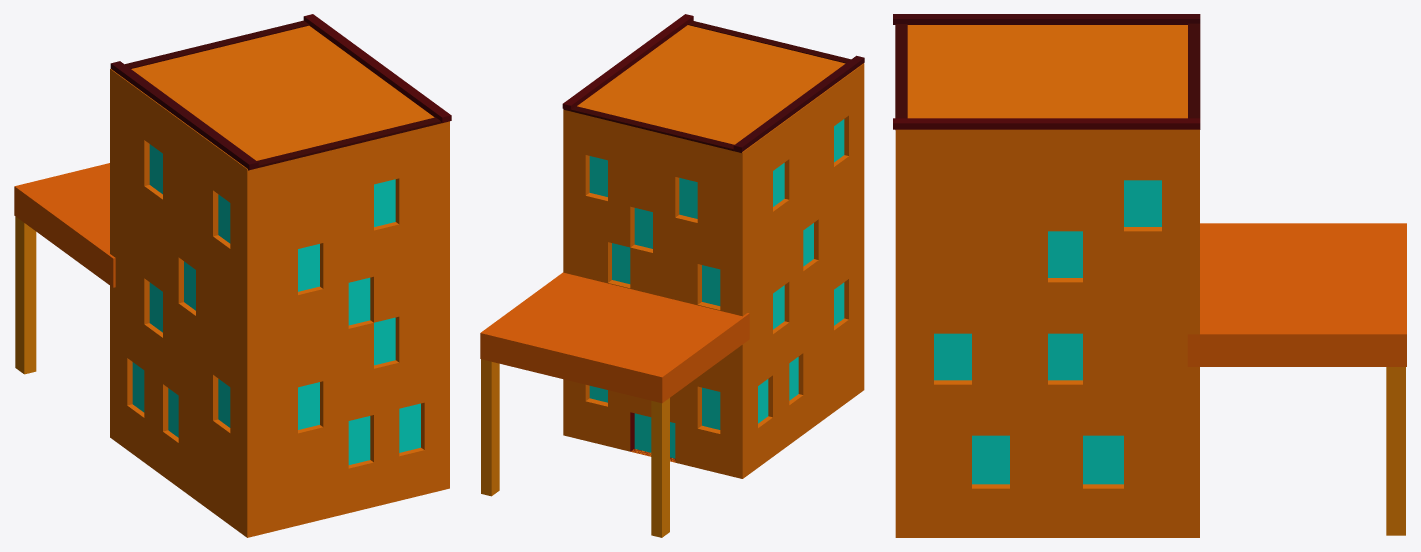
The model's file is building 5 (orange).fbx.
3 views of the same model, side by side, from view 1: azimuth 30°, elevation 25°; view 2: azimuth 150°, elevation 25°; view 3: azimuth 270°, elevation 25° (orthographic). The views are drawn at different scales.
Parts seen in each view (by area): view 1: Cube, Cube.001, Cube.003, Cube.006, Cube.007, Cube.005, Cube.004; view 2: Cube, Cube.001, Cube.003, Cube.002, Cube.006, Cube.007, Cube.004, Cube.005; view 3: Cube, Cube.001, Cube.007, Cube.002, Cube.006, Cube.004, Cube.005.
Part boxes in pixels (bbox=[...]): Cube: bbox=[110, 25, 449, 537]; Cube.001: bbox=[14, 163, 115, 287]; Cube.003: bbox=[15, 216, 36, 374]; Cube.006: bbox=[110, 61, 258, 169]; Cube.007: bbox=[303, 14, 451, 122]; Cube.005: bbox=[243, 117, 447, 170]; Cube.004: bbox=[125, 20, 309, 68]; Cube: bbox=[563, 25, 864, 478]; Cube.001: bbox=[480, 272, 749, 403]; Cube.003: bbox=[651, 398, 669, 537]; Cube.002: bbox=[481, 359, 499, 496]; Cube.006: bbox=[733, 55, 864, 152]; Cube.007: bbox=[562, 14, 693, 110]; Cube.004: bbox=[563, 106, 741, 152]; Cube.005: bbox=[688, 21, 863, 66]; Cube: bbox=[895, 25, 1199, 537]; Cube.001: bbox=[1187, 223, 1406, 366]; Cube.007: bbox=[893, 118, 1200, 129]; Cube.002: bbox=[1386, 367, 1405, 535]; Cube.006: bbox=[893, 14, 1200, 24]; Cube.004: bbox=[1188, 23, 1200, 118]; Cube.005: bbox=[895, 24, 907, 118].
Size of the model in its own units: 2668 by 4640 by 5209.
